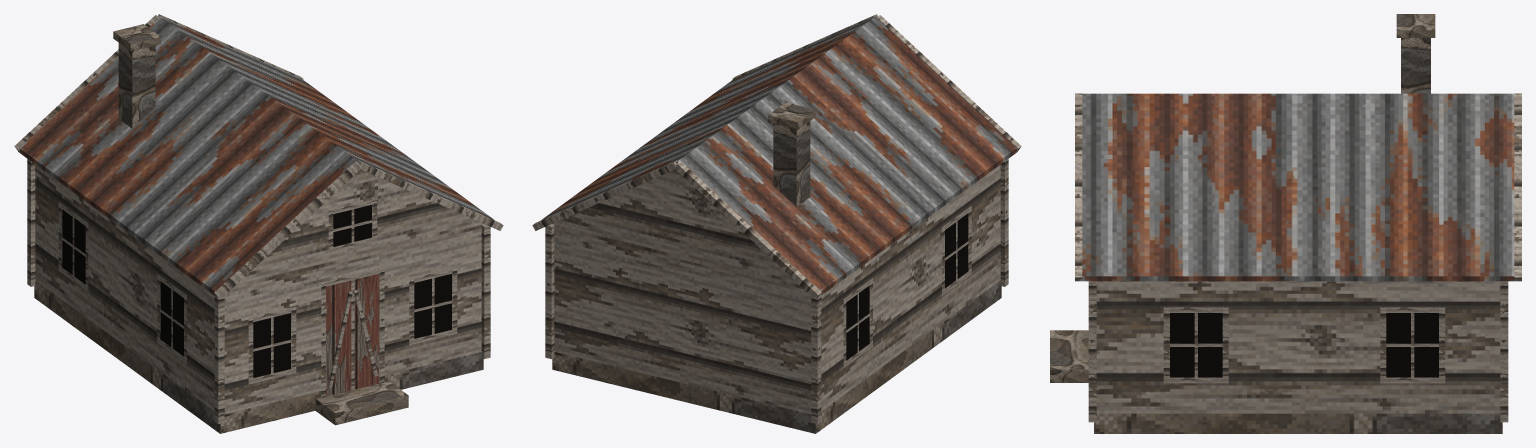
The model's file is Casa_03_Abbandonata.obj.
3 renders of one model, left to right at view 1: azimuth 30°, elevation 25°; view 2: azimuth 150°, elevation 25°; view 3: azimuth 270°, elevation 25°, orthographic. The views are drawn at different scales.
Visible parts, largest first — view 1: Casa_03_Abbandonata; view 2: Casa_03_Abbandonata; view 3: Casa_03_Abbandonata.
Part boxes in pixels (<box>): Casa_03_Abbandonata: <box>14,14,503,433</box>; Casa_03_Abbandonata: <box>532,14,1021,433</box>; Casa_03_Abbandonata: <box>1050,14,1521,433</box>.
Size of the model in its own units: 5.87 by 5.44 by 7.62.
2 materials, 1 textured.
